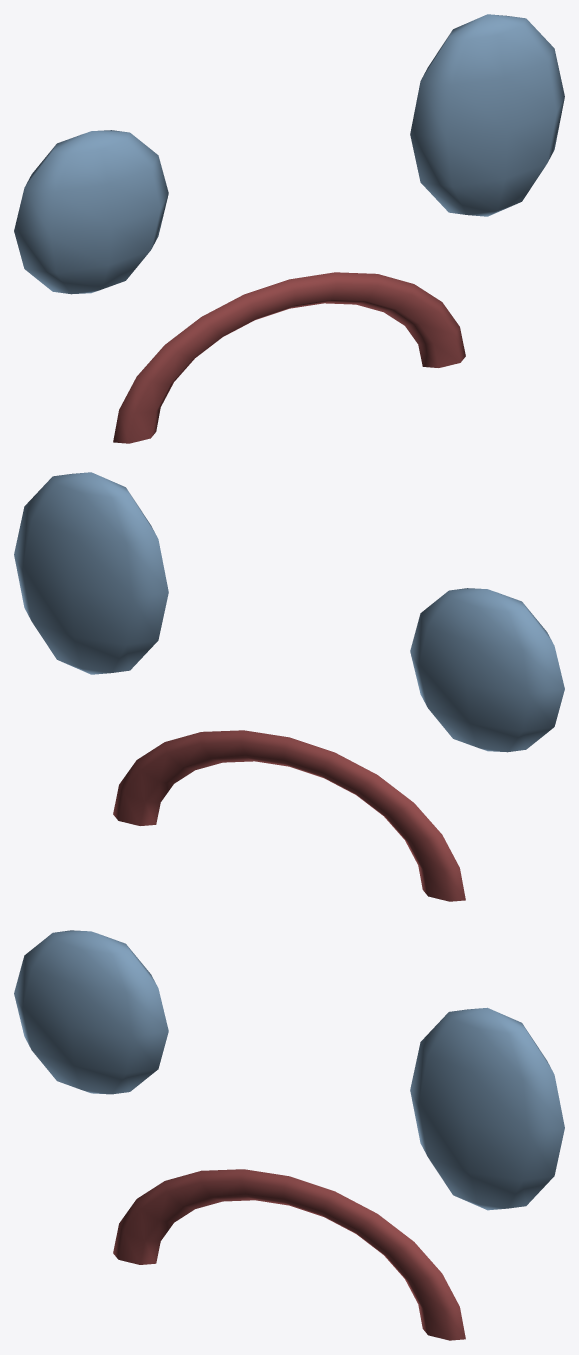
Rendered from traveler_01_face.glb.
3 views of the same model, one above another, from view 1: azimuth 30°, elevation 25°; view 2: azimuth 150°, elevation 25°; view 3: azimuth 330°, elevation 25° (orthographic).
Parts seen in each view (by area): view 1: eye_r, eye_l, mouth; view 2: eye_r, eye_l, mouth; view 3: eye_r, eye_l, mouth.
Part boxes in pixels (x1,y1,x2,y2): eye_r: (410, 14, 564, 216); eye_l: (14, 130, 168, 294); mouth: (113, 272, 465, 443); eye_r: (14, 472, 168, 674); eye_l: (410, 588, 564, 752); mouth: (113, 730, 465, 901); eye_r: (410, 1007, 564, 1210); eye_l: (14, 930, 168, 1094); mouth: (113, 1169, 465, 1340).
Bounding box in the file's own units: 0.306 × 0.1788 × 0.0387.
